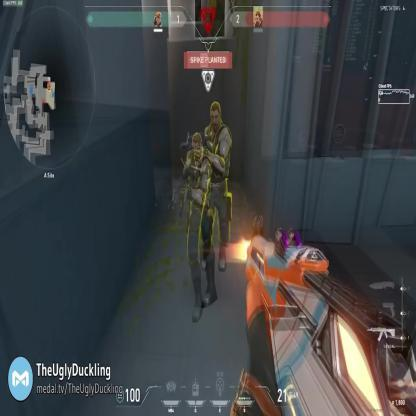enemy: (197, 100, 233, 306)
enemy_head: (209, 101, 221, 130)
